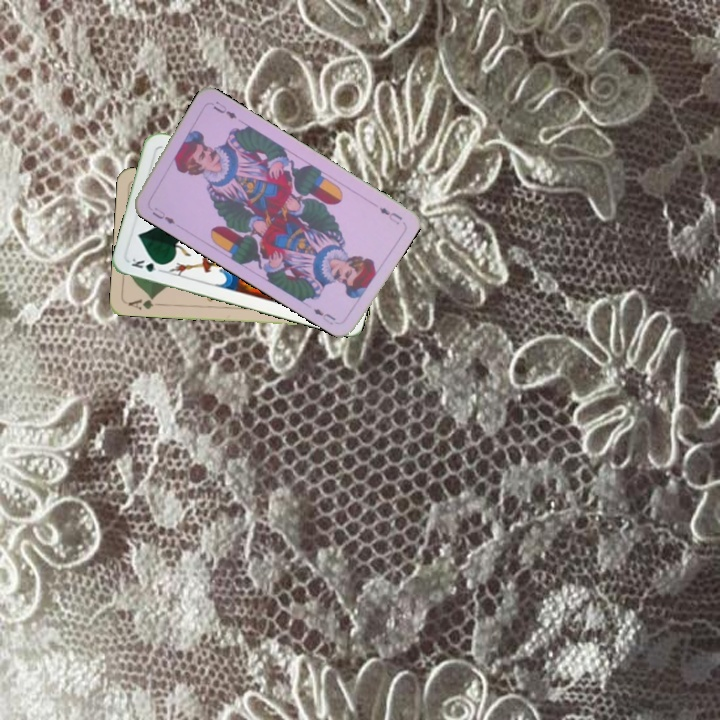EU: (148, 203, 178, 227), (375, 203, 405, 227)
GA: (124, 293, 164, 312)
GK: (127, 253, 167, 275)
